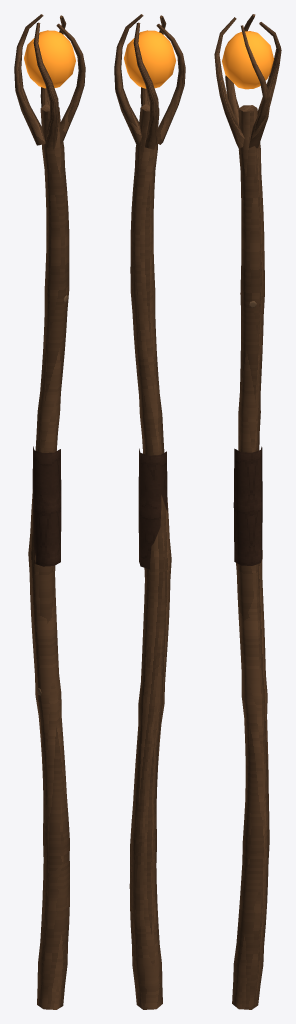
File: oak-staff.lod2.glb
3 views of the same model, side by side, from view 1: azimuth 30°, elevation 25°; view 2: azimuth 210°, elevation 25°; view 3: azimuth 330°, elevation 25° (orthographic).
Visible parts, largest first — view 1: wood / oiled hardwood, leather / oiled leather wrap, crystal / faceted crystal; view 2: wood / oiled hardwood, leather / oiled leather wrap, crystal / faceted crystal; view 3: wood / oiled hardwood, leather / oiled leather wrap, crystal / faceted crystal.
Part boxes in pixels (x1,y1,x2,y2): wood / oiled hardwood: [14, 14, 85, 1009]; leather / oiled leather wrap: [32, 446, 61, 566]; crystal / faceted crystal: [24, 30, 75, 88]; wood / oiled hardwood: [114, 14, 185, 1009]; leather / oiled leather wrap: [138, 448, 167, 569]; crystal / faceted crystal: [124, 30, 175, 88]; wood / oiled hardwood: [214, 14, 281, 1009]; leather / oiled leather wrap: [233, 446, 262, 565]; crystal / faceted crystal: [222, 31, 273, 89].
Size of the model in its own units: 0.1063 by 1.74 by 0.1063.
Materials: 4 (2 with a texture image).
